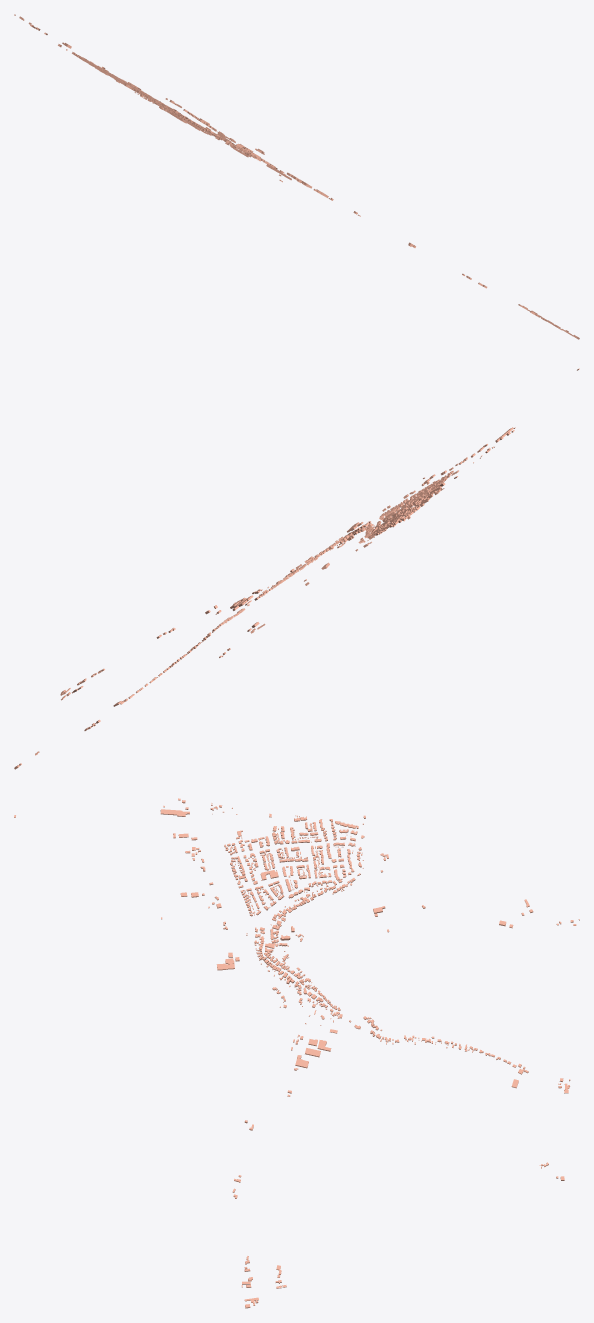
3 views of the same model, one above another, from view 1: azimuth 30°, elevation 25°; view 2: azimuth 150°, elevation 25°; view 3: azimuth 270°, elevation 25° (orthographic). The views are drawn at different scales.
Size of the model in its own units: 1880 by 1458 by 2344.
